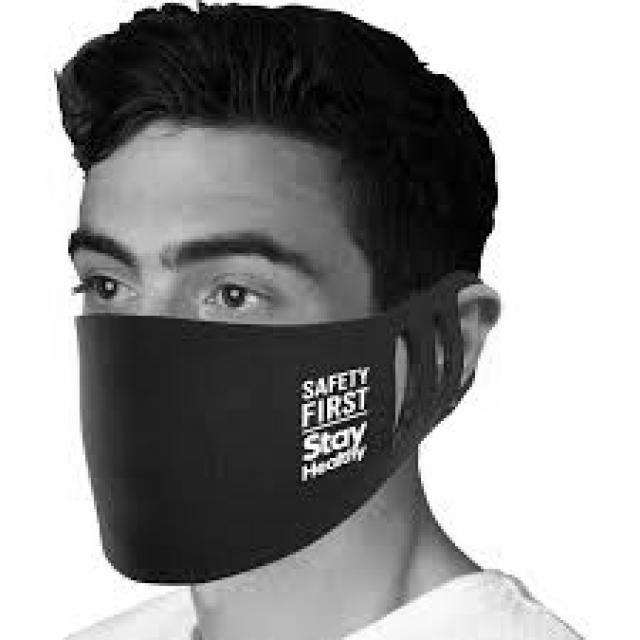fake: (70, 309, 490, 582)
real: (68, 145, 384, 589)
